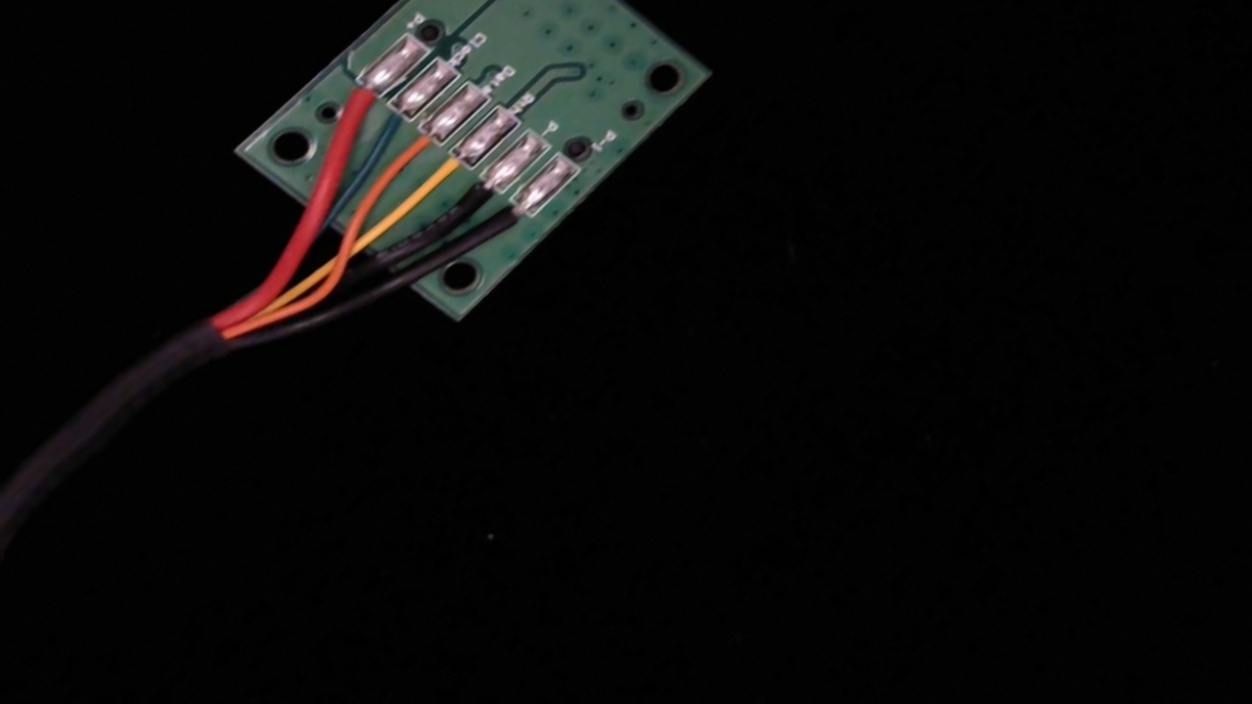Black: (429, 160, 519, 237)
Black1: (465, 187, 550, 259)
Green: (340, 87, 429, 160)
Orange: (372, 113, 461, 187)
Red: (312, 62, 401, 134)
Yellow: (398, 135, 490, 212)
